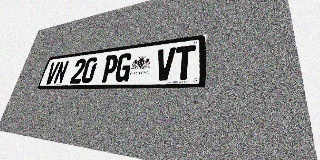0: (80, 57, 98, 83)
2: (69, 58, 87, 84)
G: (114, 52, 133, 82)
N: (53, 60, 69, 84)
P: (100, 54, 119, 83)
T: (173, 45, 196, 80)
V: (154, 47, 176, 81), (44, 61, 60, 84)
